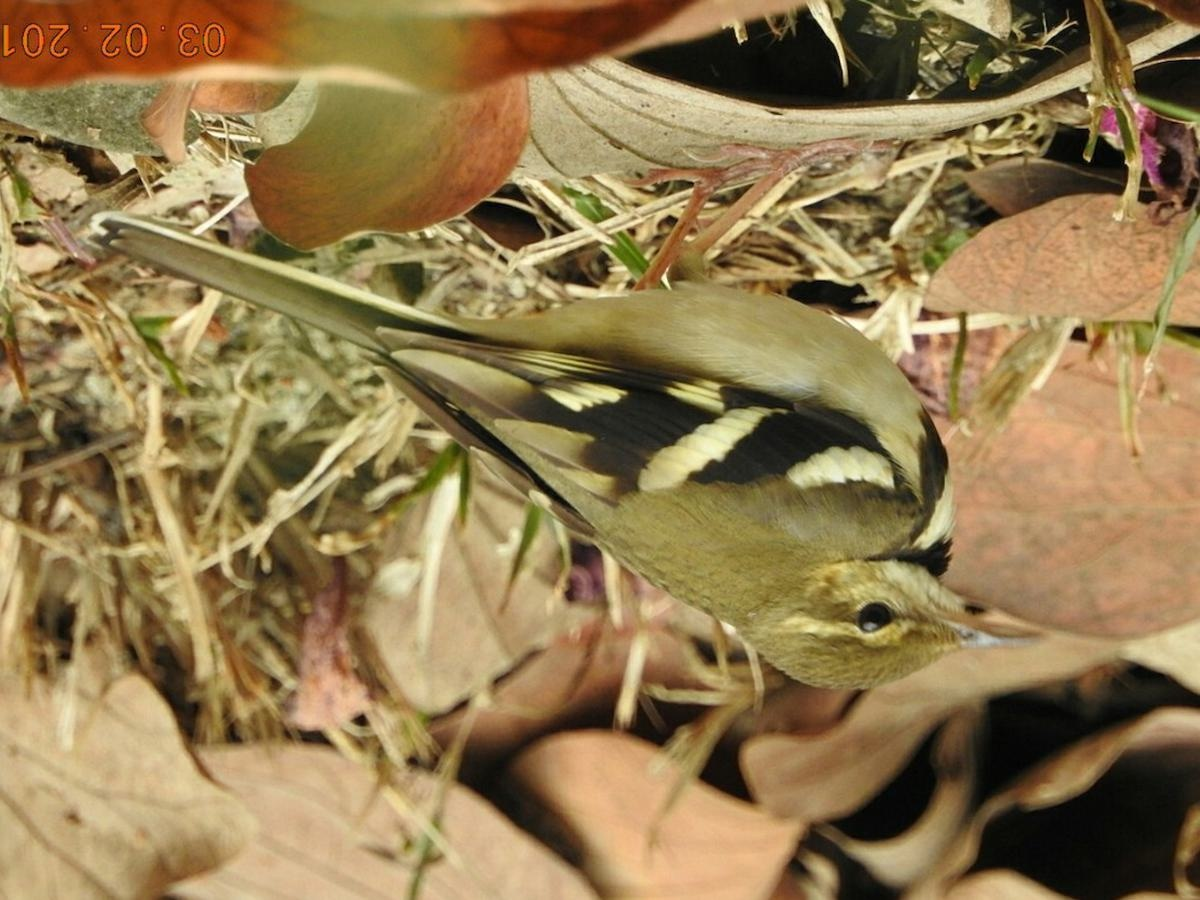wagtail: (337, 195, 1033, 697)
